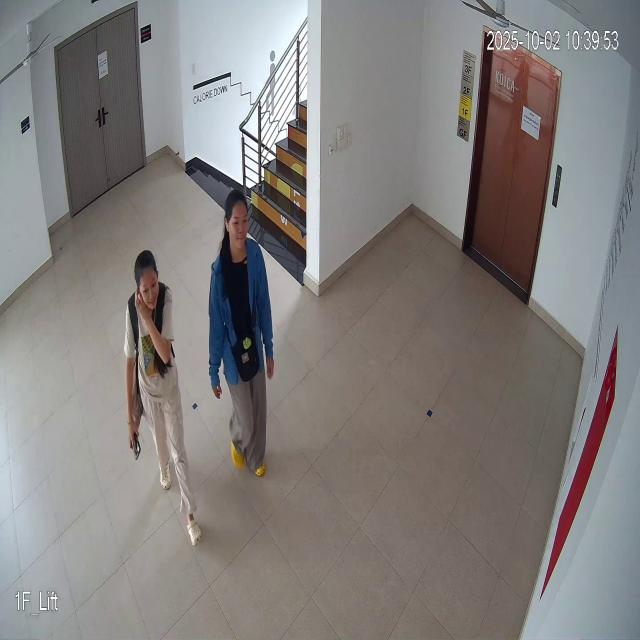face: (223, 188, 255, 254), (130, 244, 162, 310)
